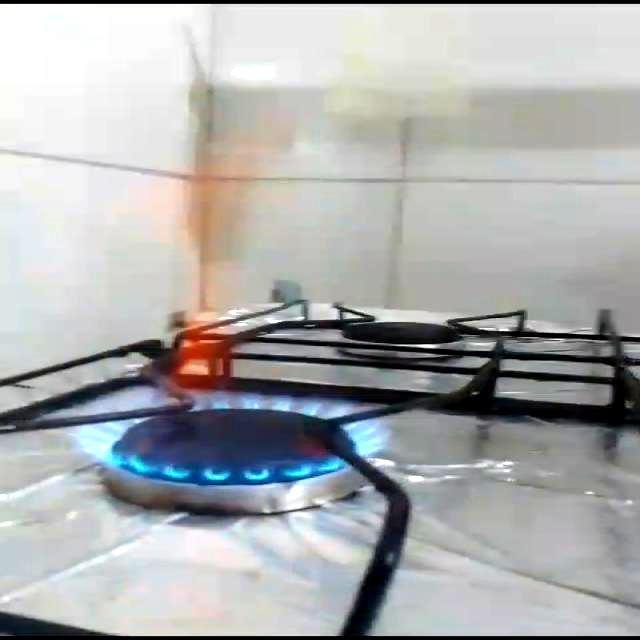helmet: (61, 389, 398, 487)
